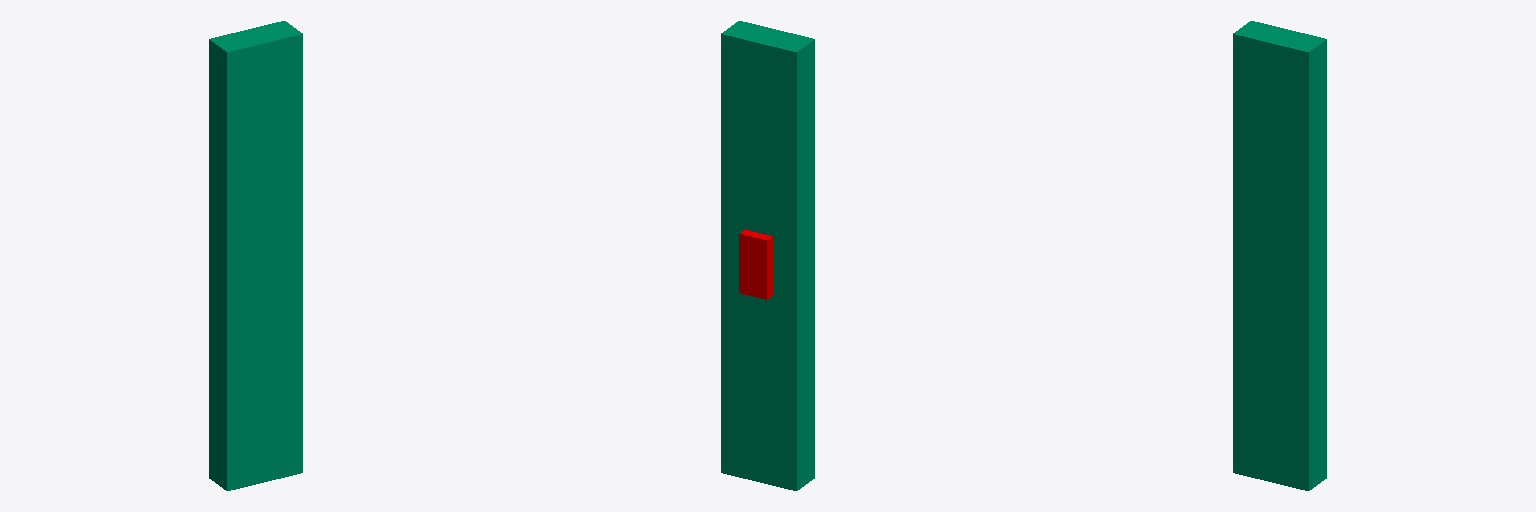
The robot description file, URDF, robot "knife":
<?xml version='1.0' encoding='utf-8'?>
<robot name="knife">
  <link name="base" /><joint name="joint_0" type="fixed"><origin xyz="0 0 0" rpy="0 0 0" /><parent link="base" /><child link="link_0" /></joint><link name="link_1">
    <visual name="link_1">
      <origin xyz="0 0.007874 0" rpy="0 0 0" />
      <geometry>
        <box size="0.010427013696028461 0.003697721163459742 0.02160301728568388" /></geometry>
    <material name="red"><color rgba="1 0 0 1" /></material></visual>
    <collision>
      <origin xyz="0 0.007874 0" rpy="0 0 0" />
      <geometry>
        <box size="0.010427013696028461 0.003697721163459742 0.02160301728568388" /></geometry>
    </collision>
    </link>
  <joint name="joint_1" type="prismatic">
    <origin xyz="0 0 0" />
    <axis xyz="0 0 1" />
    <child link="link_1" />
    <parent link="link_0" />
    <limit lower="-0.045399" upper="0.004601" effort="100.0" velocity="1.0" />
  </joint>
  <link name="link_0">
    <visual name="link_0">
      <origin xyz="0 0 0" />
      <geometry>
        <box size="0.028775476089541487 0.012049823170233715 0.15912392587546445" /></geometry>
    </visual>
    <collision>
      <origin xyz="0 0 0" />
      <geometry>
        <box size="0.028775476089541487 0.012049823170233715 0.15912392587546445" /></geometry>
    </collision>
    </link>
</robot>

--- What the picture shows (computed from the rendered views, not written in the file) ---
3 views of the same robot in one strip: view 1: azimuth 30°, elevation 25°; view 2: azimuth 150°, elevation 25°; view 3: azimuth 330°, elevation 25° (orthographic).
Model knife with 3 links and 2 joints (1 prismatic, 1 fixed), rooted at base, posed every joint at zero.
Visible links, largest first — view 1: link_0; view 2: link_0, link_1; view 3: link_0.
Link boxes in pixels (box(x1,y1,x2,y2)): link_0: box(209, 21, 302, 490); link_0: box(721, 21, 814, 490); link_1: box(739, 230, 772, 299); link_0: box(1233, 21, 1326, 490).
Bounding box of the posed robot: 0.0288 × 0.0157 × 0.1591 m (x, y, z).
Geometry: primitives only (box / cylinder / sphere), no mesh files.
